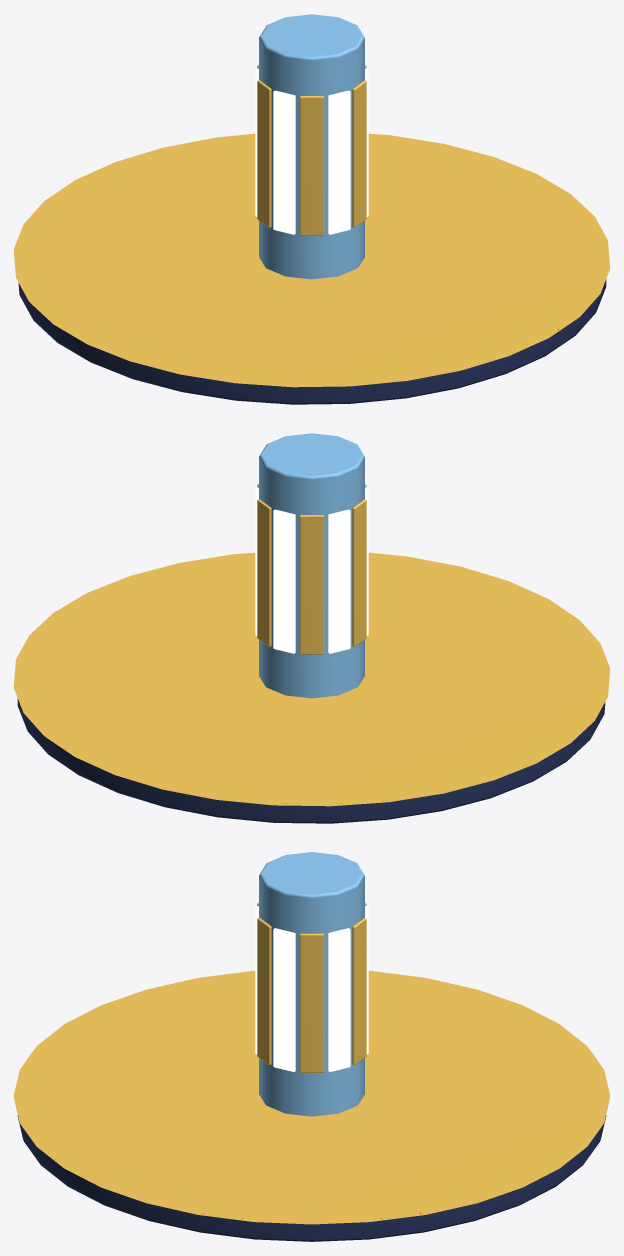
File: sky_carousel.glb
3 renders of one model, top to bottom at view 1: azimuth 30°, elevation 25°; view 2: azimuth 150°, elevation 25°; view 3: azimuth 270°, elevation 25°, orthographic.
Visible parts, largest first — view 1: Carousel; view 2: Carousel; view 3: Carousel.
Boxes of the visible parts, <box> form: Carousel: <box>14,14,609,404</box>; Carousel: <box>14,433,609,823</box>; Carousel: <box>14,852,609,1241</box>.
Bounding box in the file's own units: 10.12 × 4.6 × 10.12.
